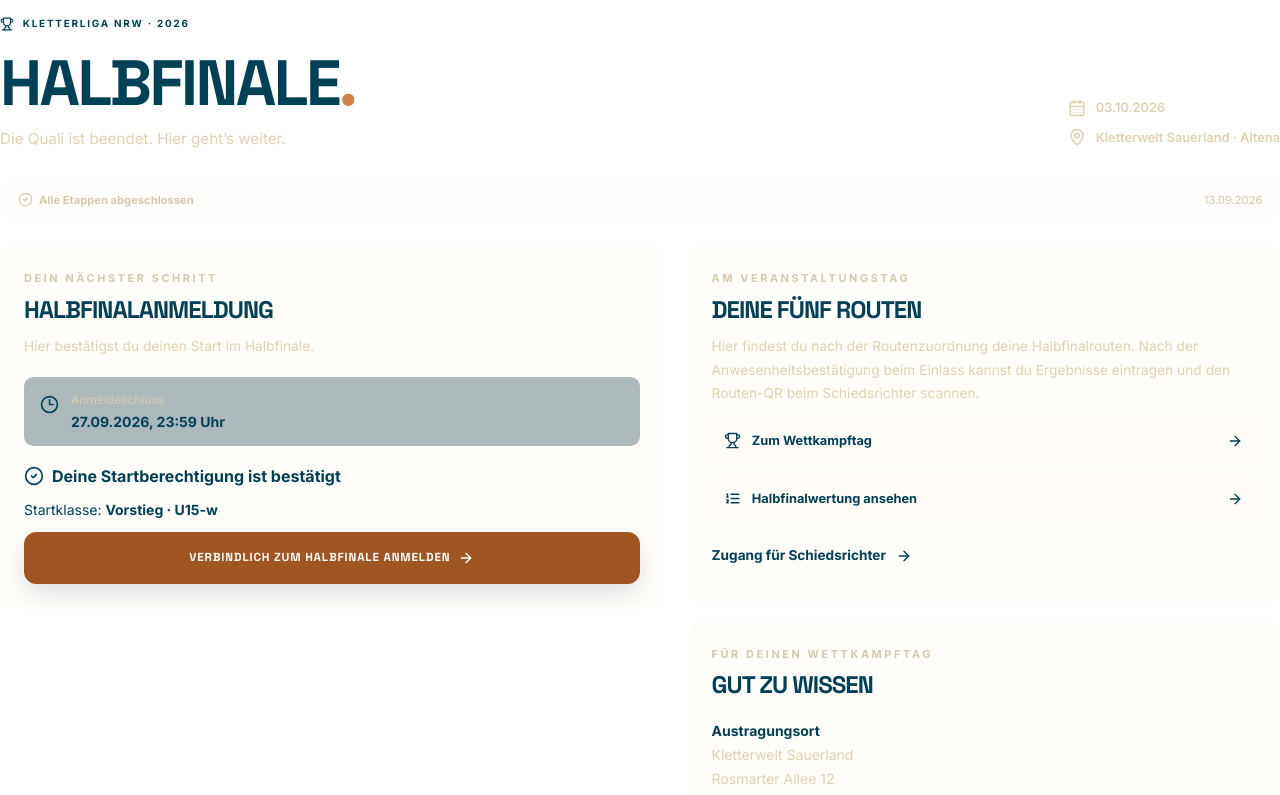
Test: semifinal registration confirmation › shows current event and approved class without writing; cancel restores focus
Click the button "Verbindlich zum Halbfinale anmelden" at (332, 558), box x1=24 y1=532 x2=640 y2=584
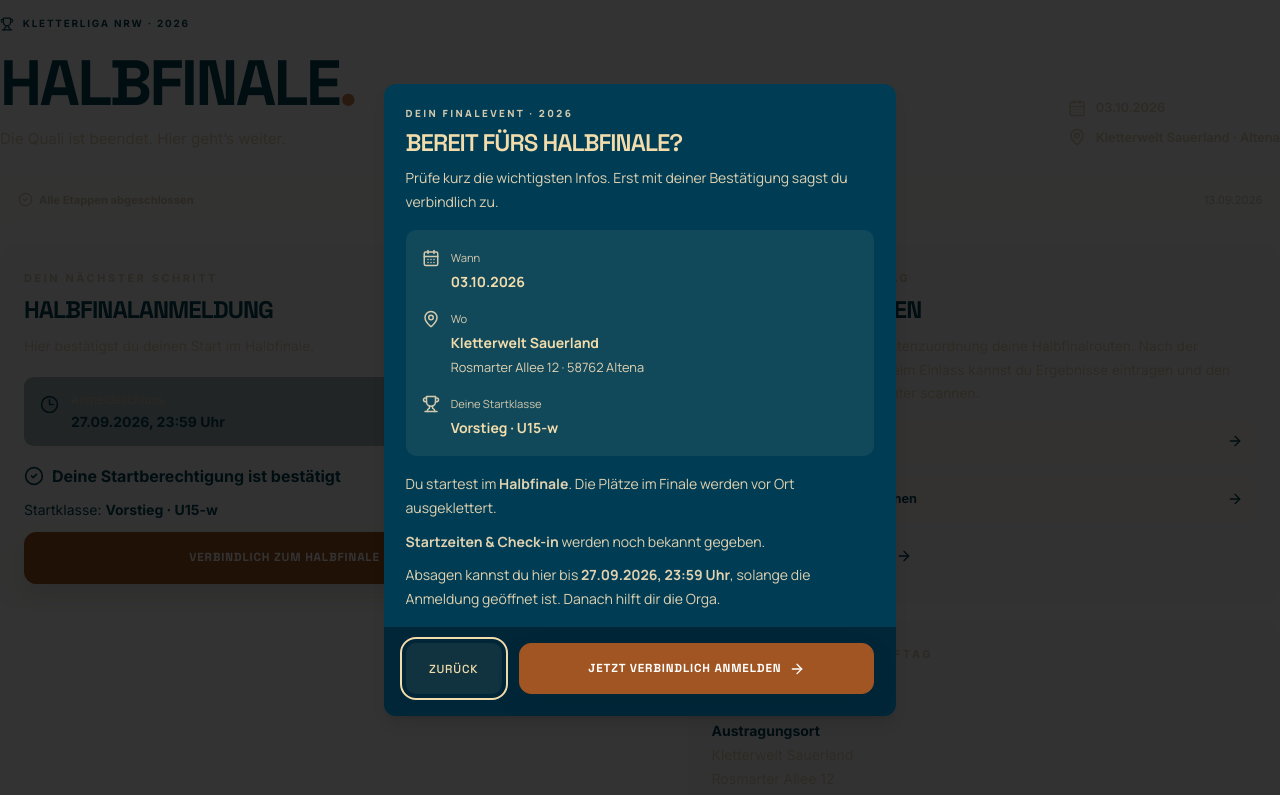
Check: the text "03.10.2026" is shown, box x1=451 y1=272 x2=525 y2=292
Check: the text "Kletterwelt Sauerland" is shown, box x1=451 y1=333 x2=599 y2=352
Check: the text "Rosmarter Allee 12 · 58762 Altena" is shown, box x1=451 y1=358 x2=644 y2=376
Click the button "Zurück" at (454, 669), box x1=406 y1=643 x2=502 y2=694
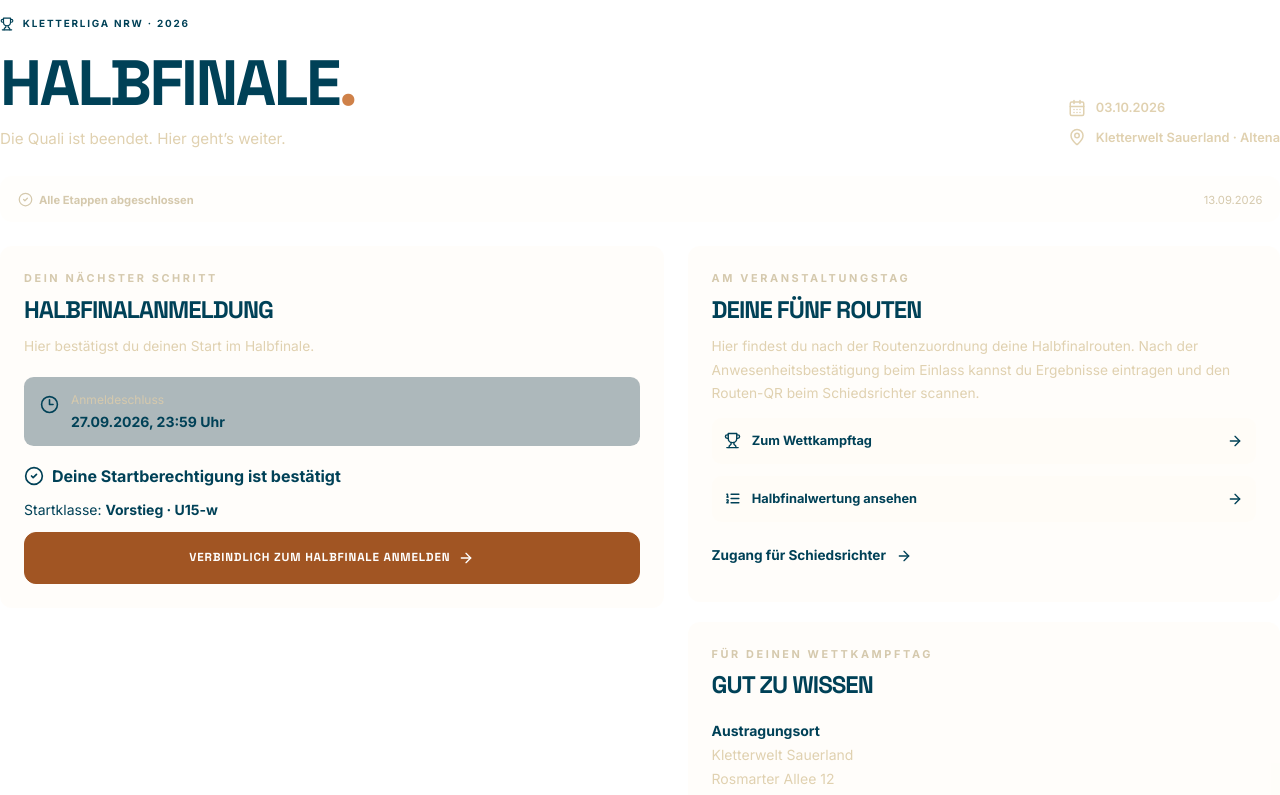
Check: the dialog is gone
